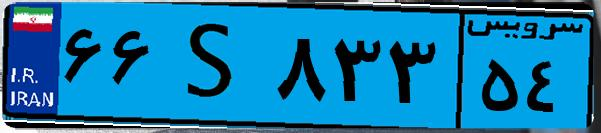3: (385, 28, 445, 110), (330, 28, 385, 110)
4: (525, 38, 570, 115)
5: (475, 38, 525, 113)
6: (57, 26, 110, 100), (110, 28, 158, 98)
8: (270, 28, 330, 110)
S: (158, 12, 270, 120)
